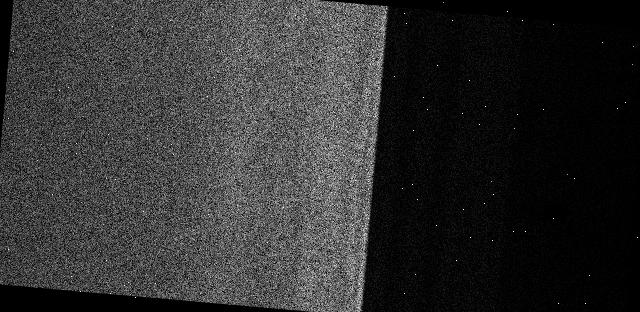silk_spot: (228, 5, 337, 272)
